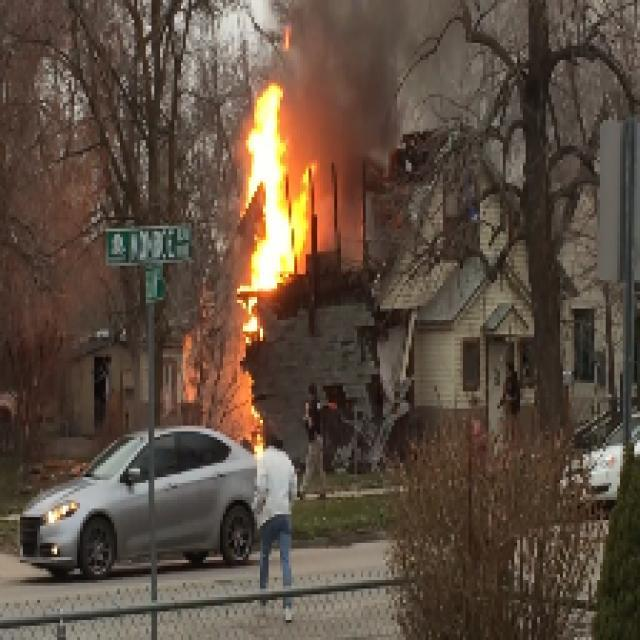Fire: (250, 98, 298, 286)
Smoke: (307, 9, 397, 150)
